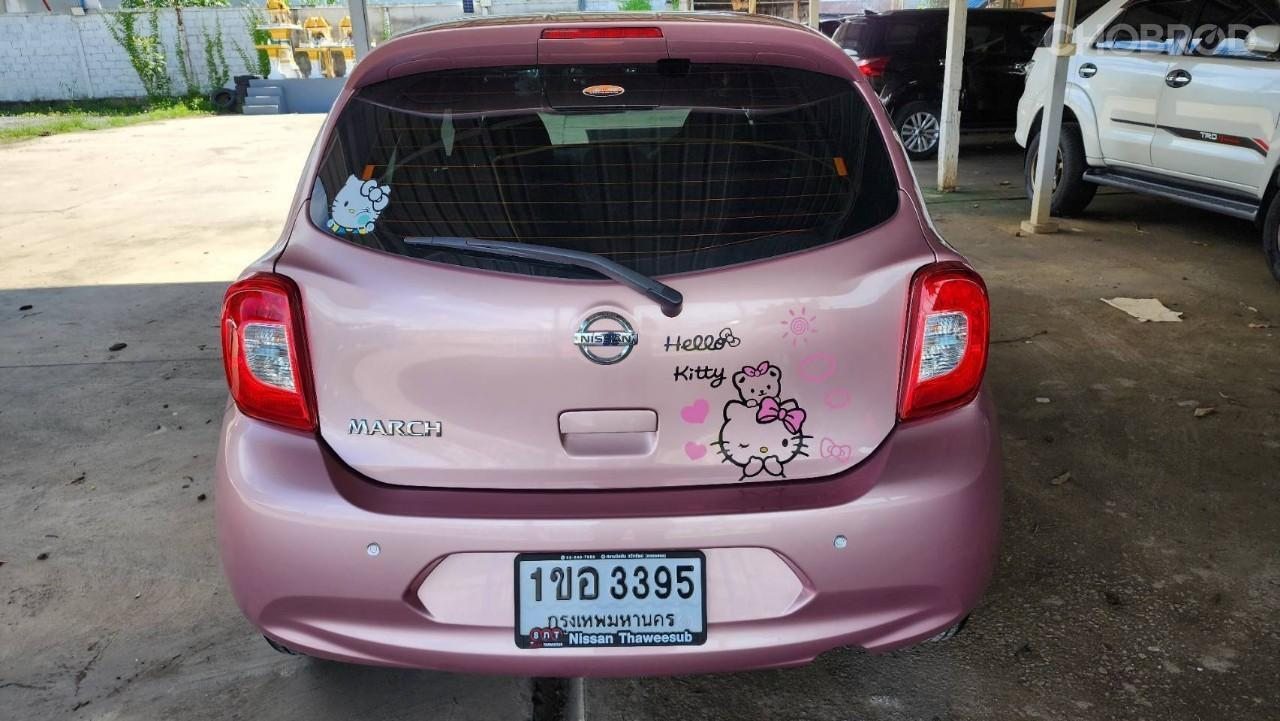license-plate: (509, 547, 713, 657)
